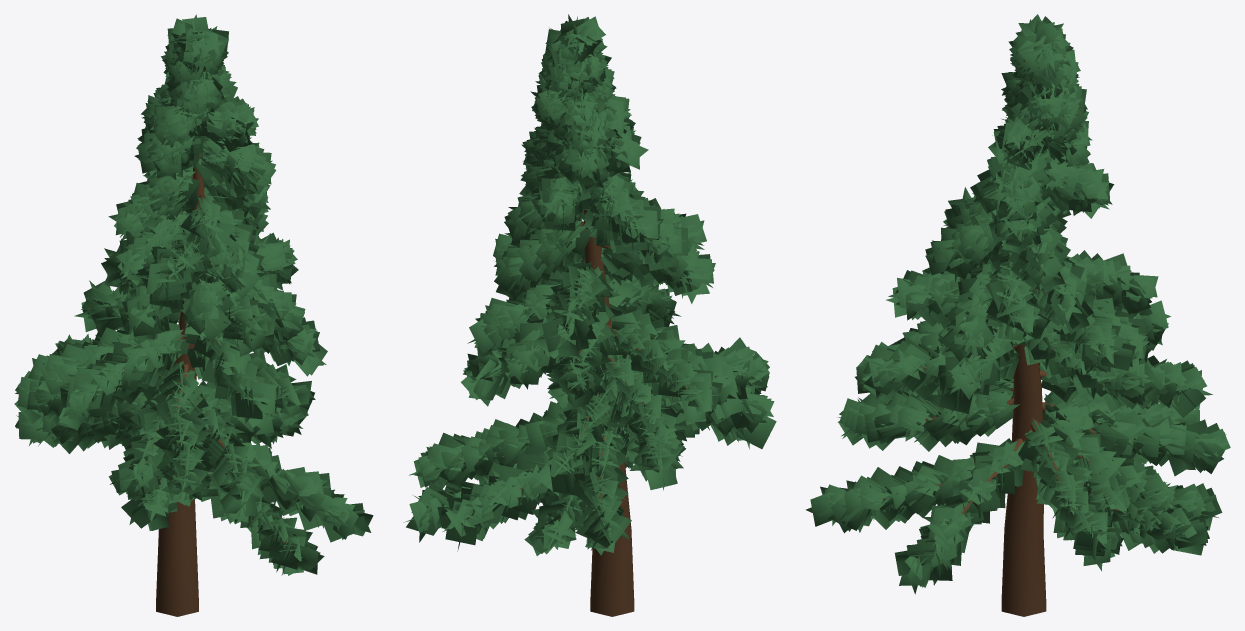
Rendered from ez_pine_medium_pbr.glb.
3 views of the same model, side by side, from view 1: azimuth 30°, elevation 25°; view 2: azimuth 150°, elevation 25°; view 3: azimuth 270°, elevation 25° (orthographic). The views are drawn at different scales.
Parts seen in each view (by area): view 1: Tree; view 2: Tree; view 3: Tree.
Boxes of the visible parts, box(x1,y1,x2,y2) form: Tree: box(14, 14, 373, 616); Tree: box(403, 14, 776, 616); Tree: box(805, 14, 1230, 616).
Bounding box in the file's own units: 14.03 × 26.92 × 17.33.
